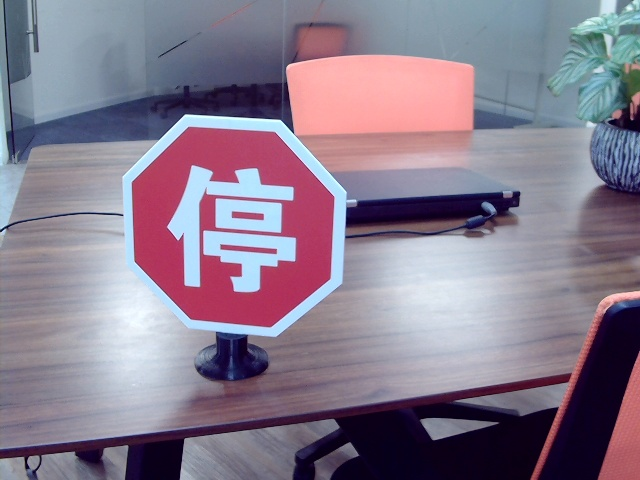stop: (167, 160, 298, 296)
